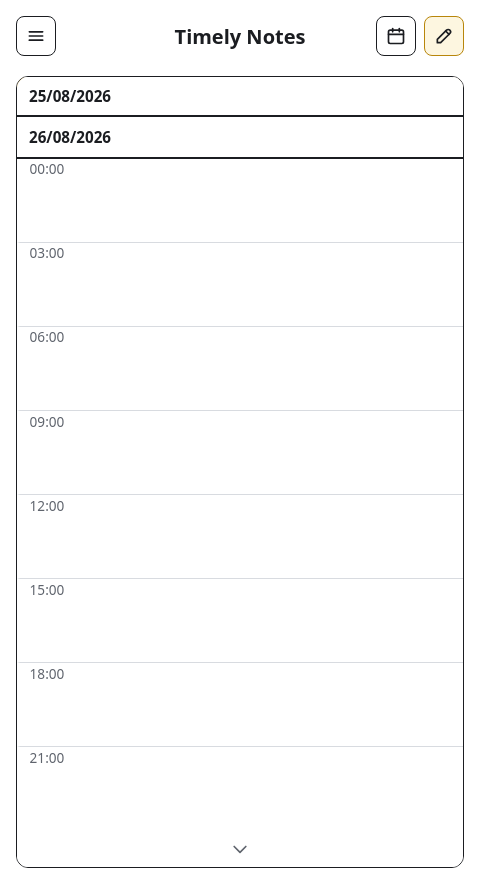
it: App — live clock › moves the view to the current day when Go to today is pressed
This screenshot has width=481, height=885.
(page scrolled)
Click the button named "Later days". click: (240, 849)
box: [17, 831, 463, 867]
Wait 120000 ms
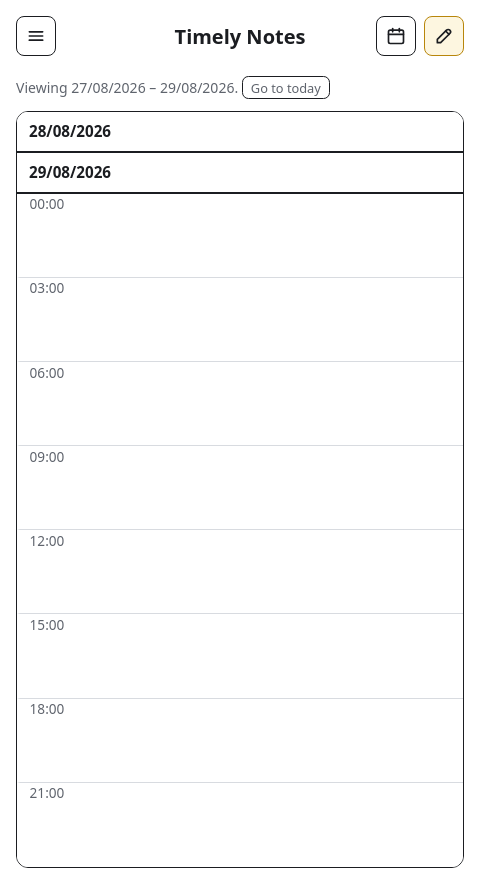
Click the button "Go to today". click: (286, 88)
box: [242, 76, 330, 99]
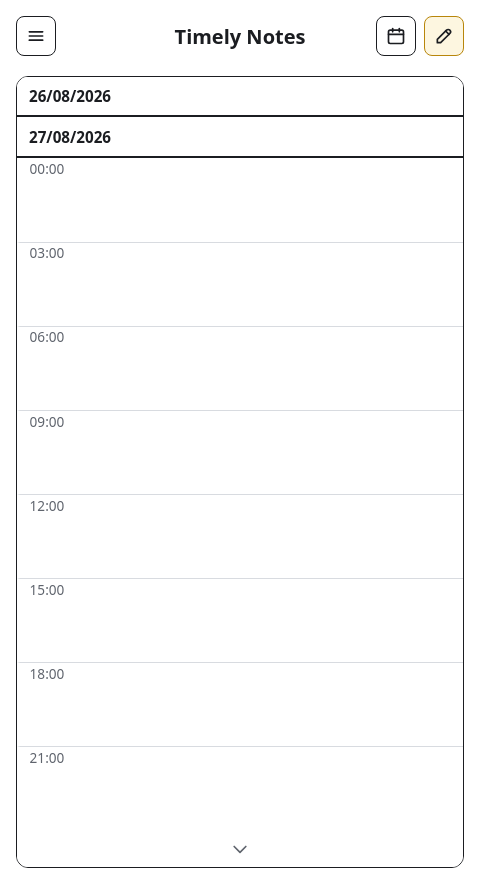
Expected: the text "Viewing " is gone
